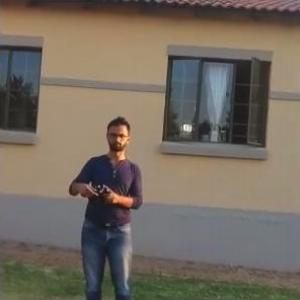follow: (62, 109, 146, 299)
